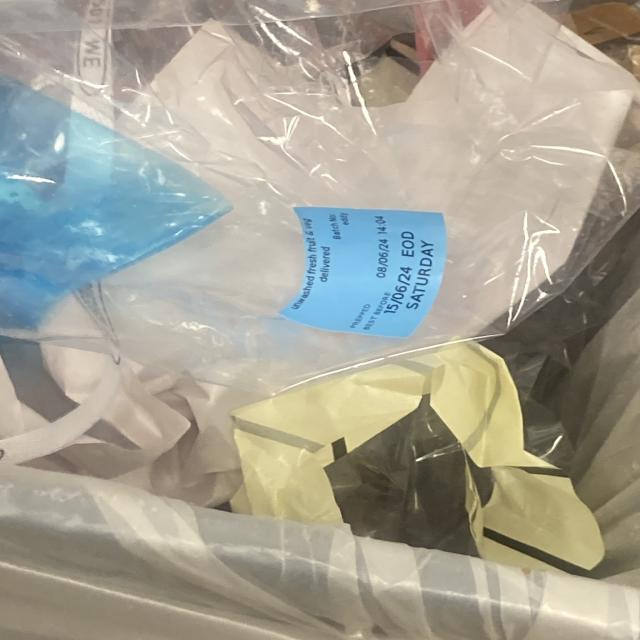product-labels: (291, 205, 447, 339)
